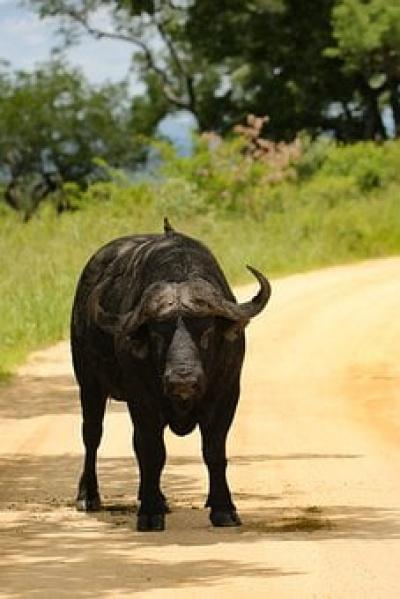buffalo: (69, 221, 273, 533)
